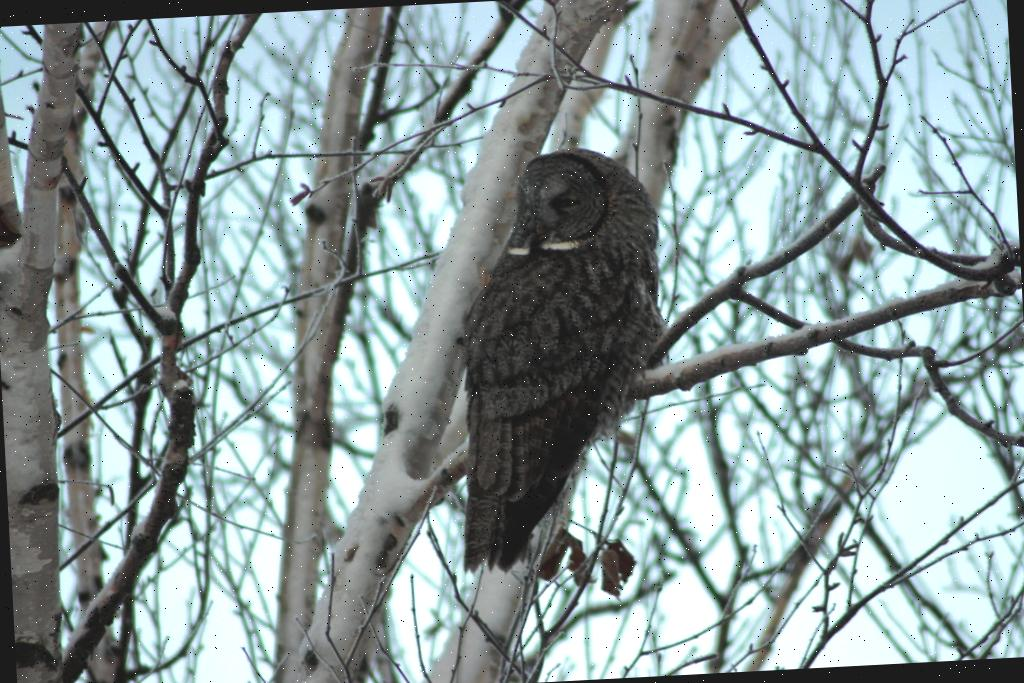Owl: (442, 144, 680, 579)
